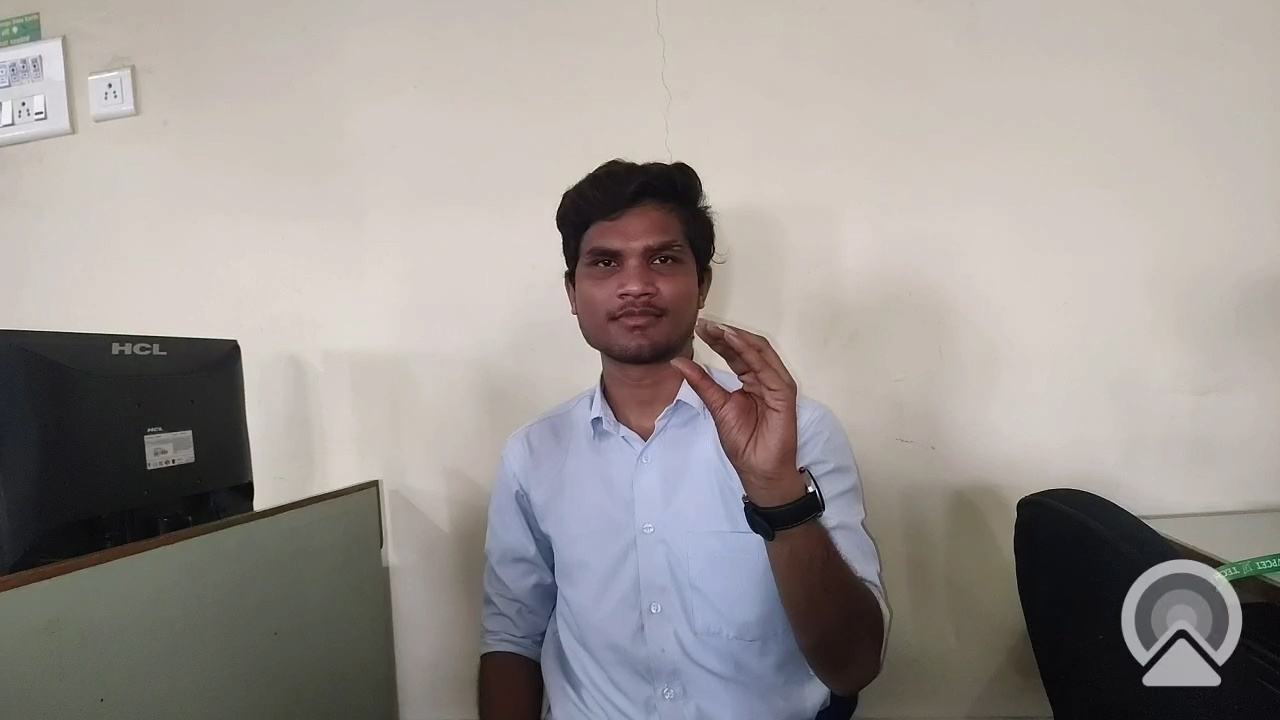No: (662, 295, 841, 502)
